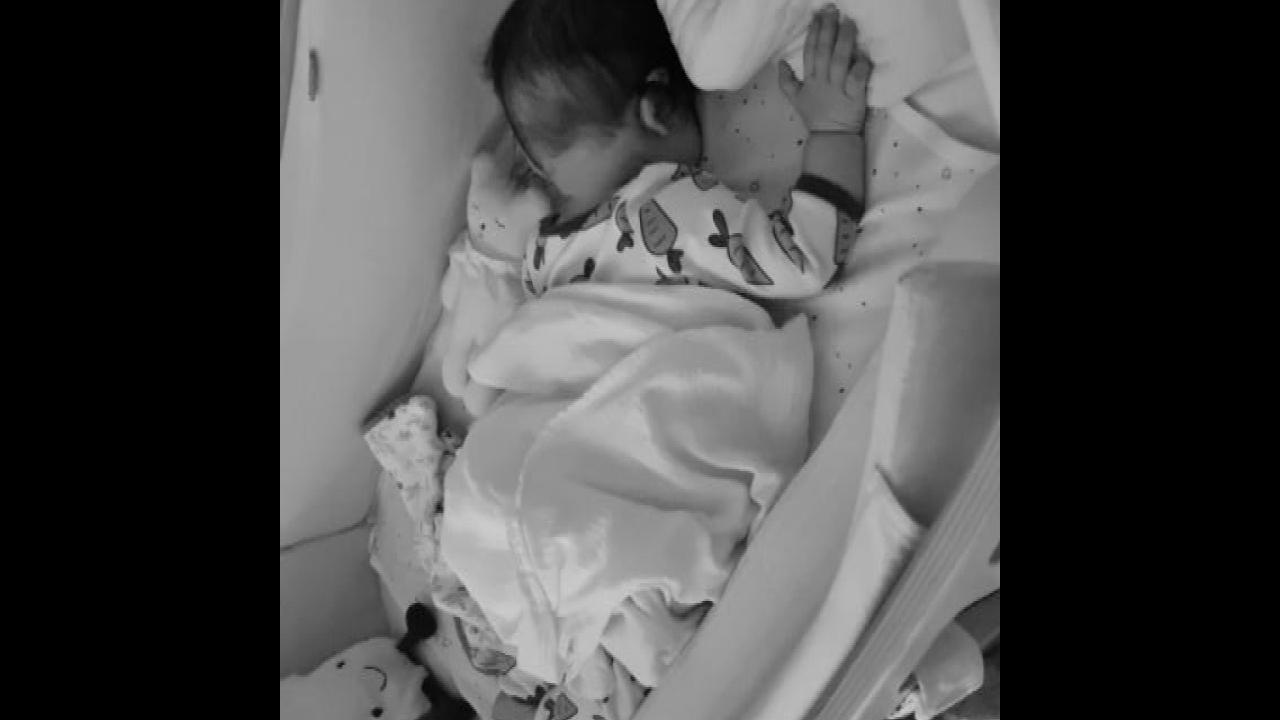hand: (773, 0, 877, 136)
